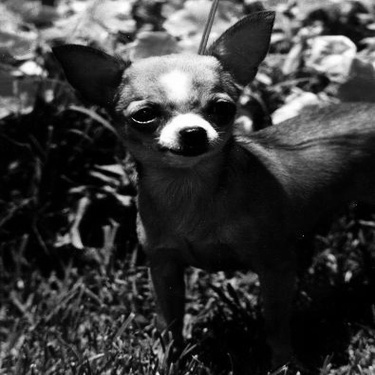dog: (46, 10, 373, 374)
